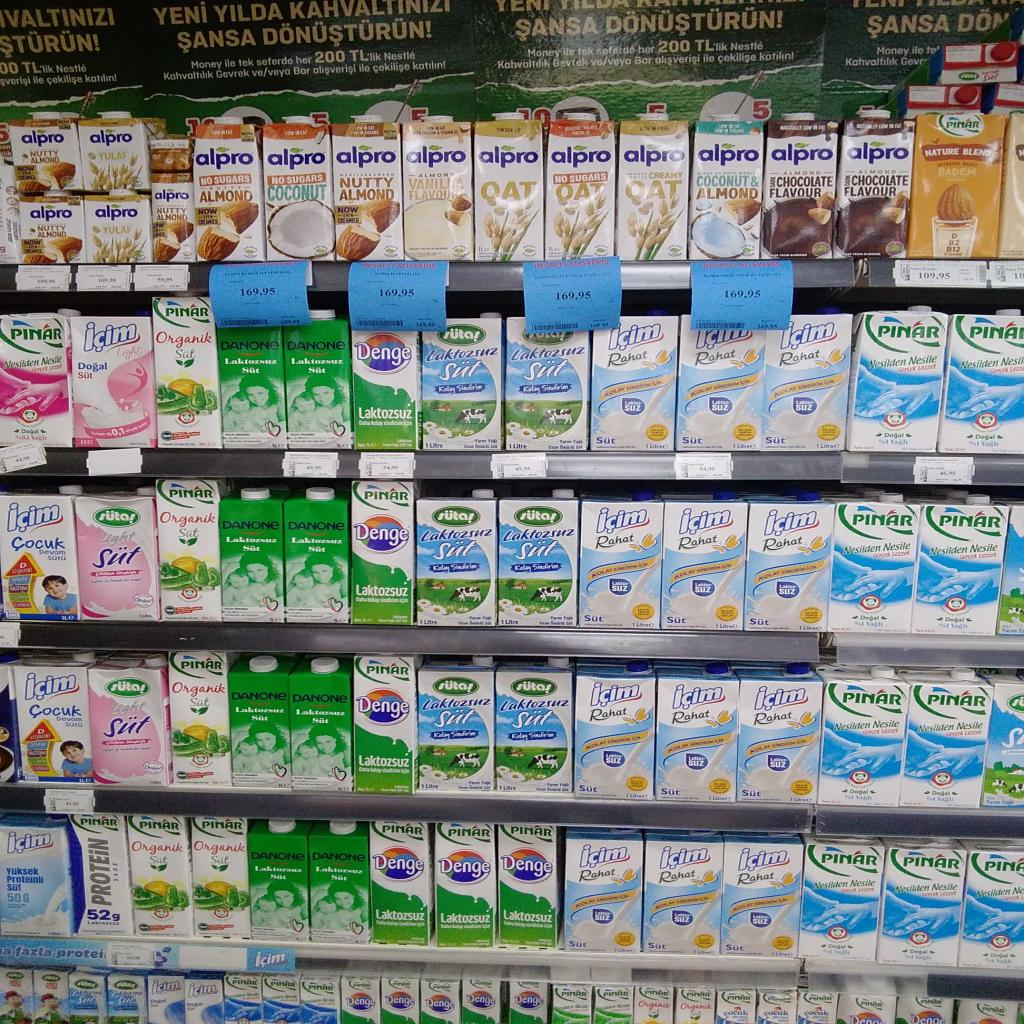price_tag: (524, 257, 622, 333), (691, 261, 793, 330), (349, 261, 447, 331), (210, 262, 310, 327), (894, 260, 987, 287), (914, 456, 975, 484), (133, 264, 190, 292), (87, 448, 142, 476), (675, 453, 733, 479), (360, 452, 415, 479), (956, 999, 1015, 1024), (76, 264, 132, 290), (283, 452, 339, 478), (44, 784, 94, 813), (491, 453, 547, 478), (16, 266, 71, 291), (0, 443, 45, 473), (108, 942, 156, 967), (989, 261, 1023, 287), (0, 620, 20, 647)
product: (907, 111, 1006, 259), (848, 307, 948, 452), (912, 496, 1007, 634), (762, 309, 851, 451), (829, 494, 919, 633), (819, 666, 908, 806), (744, 494, 834, 632), (939, 309, 1023, 454), (590, 313, 678, 451), (661, 492, 748, 631), (901, 676, 992, 807), (578, 491, 663, 631), (737, 664, 822, 804), (834, 110, 915, 256), (677, 316, 765, 450), (655, 662, 739, 802), (71, 316, 157, 448), (574, 661, 655, 800), (761, 114, 839, 258), (504, 318, 589, 450), (421, 314, 503, 450), (878, 840, 965, 966), (416, 491, 497, 626), (498, 491, 578, 626), (688, 118, 764, 260), (90, 655, 171, 787), (617, 115, 690, 261), (0, 495, 84, 621), (798, 837, 883, 961), (544, 115, 616, 260), (153, 297, 222, 448), (75, 496, 159, 620), (475, 113, 544, 262), (419, 657, 495, 791), (402, 117, 473, 260), (263, 118, 334, 259), (722, 834, 803, 957), (563, 829, 643, 953), (194, 122, 265, 261), (642, 833, 723, 954), (495, 666, 572, 793), (13, 663, 94, 782), (0, 314, 72, 446), (285, 310, 353, 449), (157, 478, 222, 620), (351, 480, 415, 624), (228, 654, 297, 787), (219, 488, 286, 622), (285, 488, 350, 623), (170, 650, 234, 785), (354, 655, 416, 793), (216, 327, 286, 449), (289, 657, 352, 791), (0, 823, 74, 937), (126, 815, 194, 937), (958, 841, 1023, 967), (68, 813, 133, 937), (352, 330, 419, 450), (370, 821, 432, 946), (434, 823, 496, 948), (248, 819, 311, 941), (309, 820, 370, 944), (498, 825, 560, 947), (191, 815, 250, 937), (9, 113, 83, 193), (79, 111, 150, 192), (982, 681, 1023, 807), (84, 191, 152, 264), (19, 191, 86, 264), (151, 170, 195, 263), (66, 970, 106, 1024), (257, 974, 299, 1024), (107, 973, 146, 1024), (224, 973, 263, 1024), (300, 973, 339, 1024), (33, 969, 69, 1024), (147, 974, 185, 1024), (341, 974, 379, 1024), (507, 978, 548, 1024), (185, 975, 223, 1024), (838, 992, 896, 1024), (0, 968, 33, 1024), (461, 977, 500, 1024), (381, 976, 418, 1024), (420, 979, 459, 1024), (897, 995, 954, 1024), (552, 984, 592, 1024), (633, 985, 673, 1024), (674, 986, 715, 1024), (594, 986, 633, 1024), (756, 988, 797, 1024), (797, 989, 838, 1024), (715, 989, 755, 1024), (151, 139, 191, 166)
